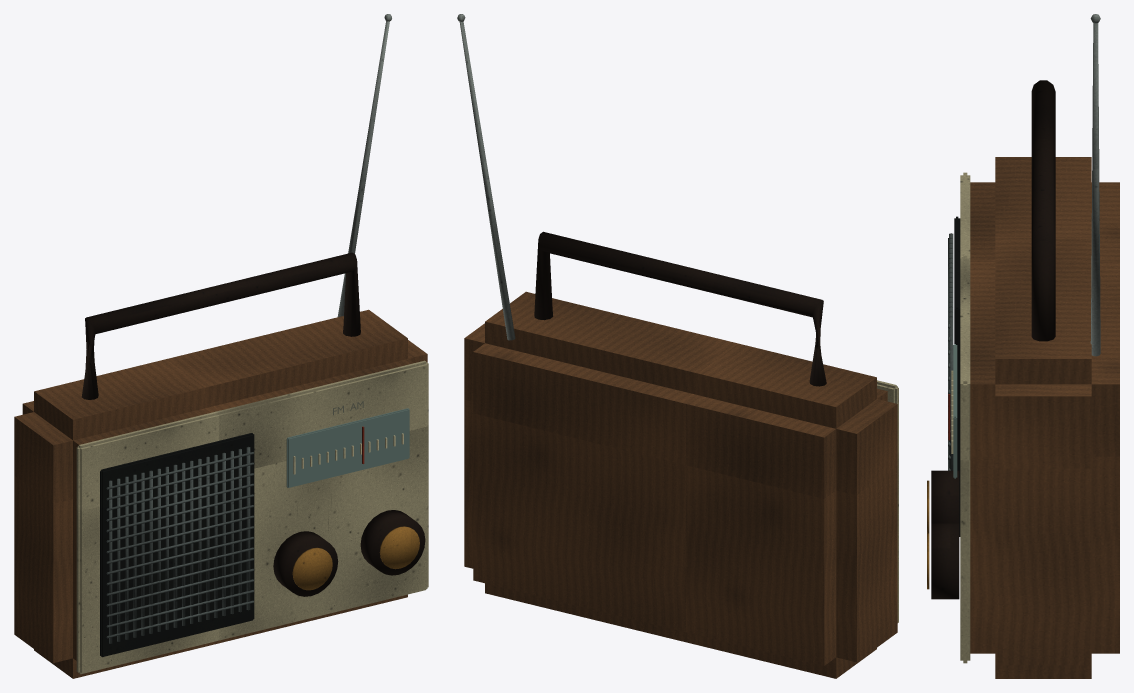
Rendered from portable_am_fm_radio.glb.
3 renders of one model, left to right at view 1: azimuth 30°, elevation 25°; view 2: azimuth 150°, elevation 25°; view 3: azimuth 270°, elevation 25°, orthographic. The views are drawn at different scales.
Visible parts, largest first — view 1: HC02_portable_am_fm_radio; view 2: HC02_portable_am_fm_radio; view 3: HC02_portable_am_fm_radio.
Boxes of the visible parts, box(x1,y1,x2,y2) form: HC02_portable_am_fm_radio: box(14, 14, 428, 678); HC02_portable_am_fm_radio: box(457, 14, 898, 678); HC02_portable_am_fm_radio: box(927, 14, 1119, 678).
Bounding box in the file's own units: 0.2695 × 0.3725 × 0.096.
11 materials, 9 textured.
